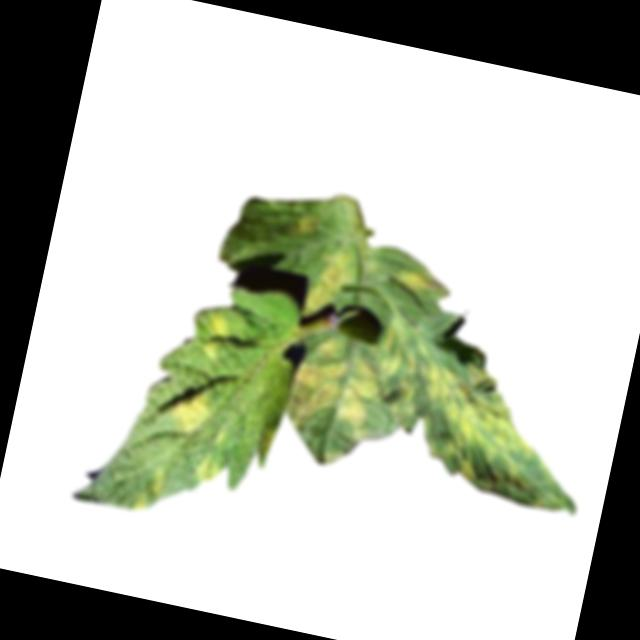Leaf_Mold: (368, 325, 606, 519), (282, 329, 393, 446), (298, 234, 363, 322), (162, 386, 221, 445), (394, 261, 452, 300), (128, 461, 166, 518), (195, 308, 232, 366), (194, 450, 228, 492), (297, 212, 321, 238)
